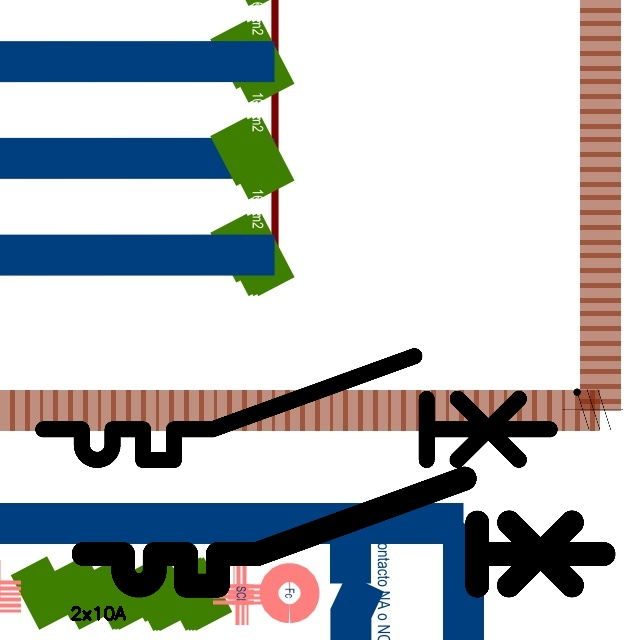interruptor_termomagnetico: (70, 465, 617, 599), (30, 343, 563, 473)
